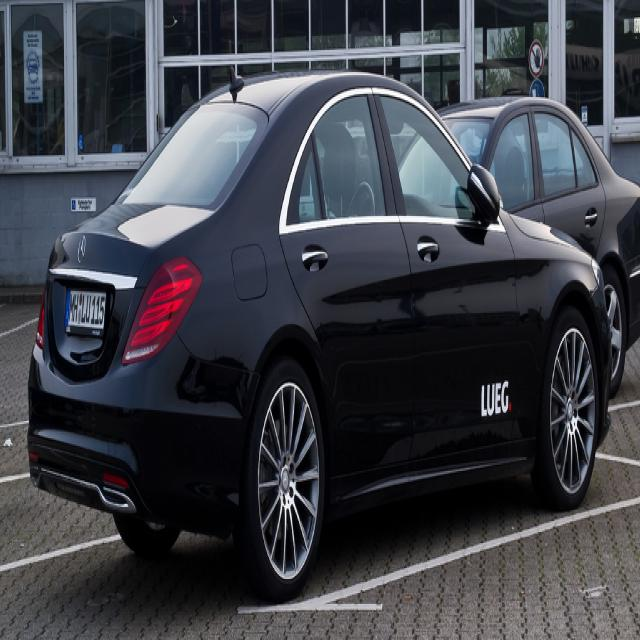car: (16, 72, 639, 598)
